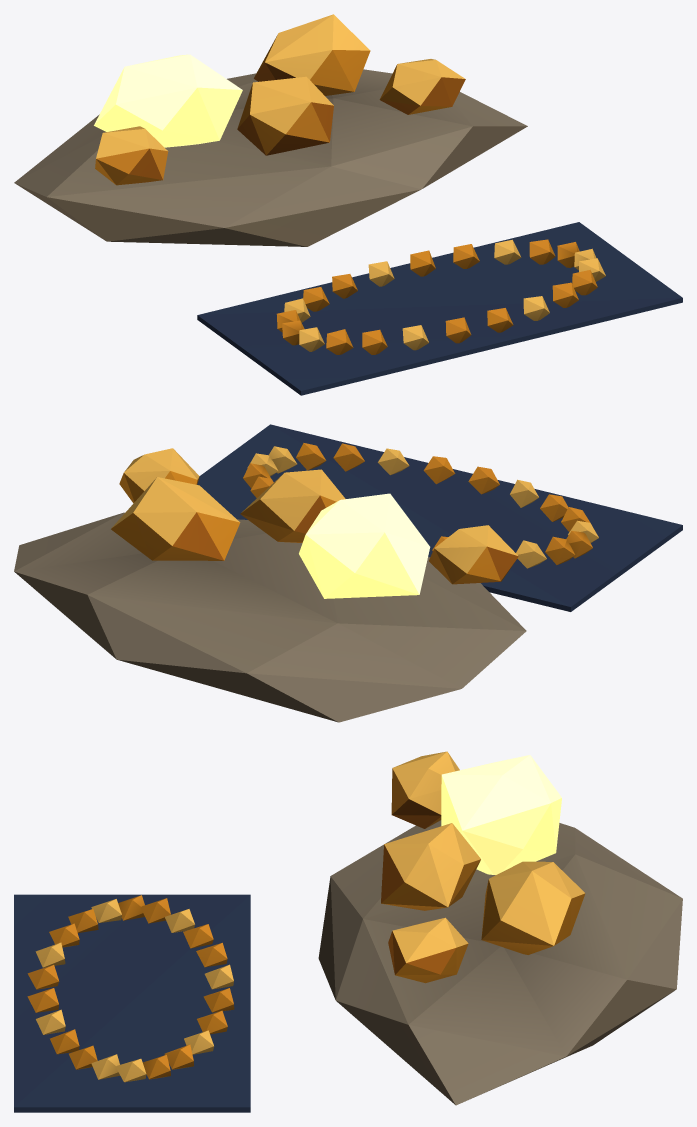
3 renders of one model, top to bottom at view 1: azimuth 30°, elevation 25°; view 2: azimuth 150°, elevation 25°; view 3: azimuth 270°, elevation 25°, orthographic. The views are drawn at different scales.
Visible parts, largest first — view 1: base; view 2: base; view 3: base.
Part boxes in pixels (x1,y1,x2,y2): base: (14,14,682,395); base: (14,424,682,722); base: (14,751,682,1112).
Bounding box in the file's own units: 0.4235 × 0.1356 × 0.452.
